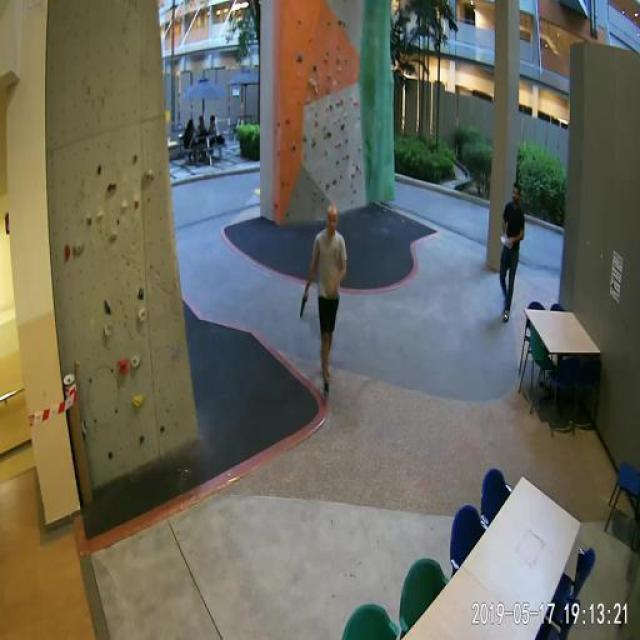Gun: (290, 278, 322, 328)
